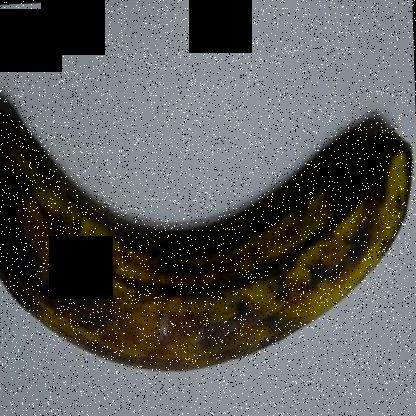overripe: (1, 106, 412, 380)
